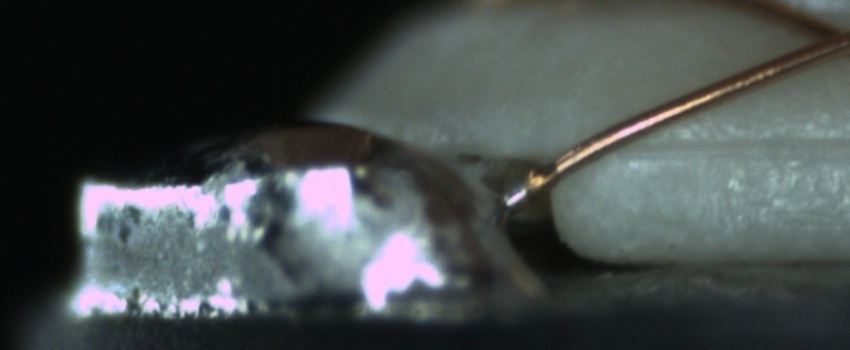CL: (793, 7, 850, 64)
DL: (628, 109, 845, 182)
TS: (503, 175, 533, 210)
